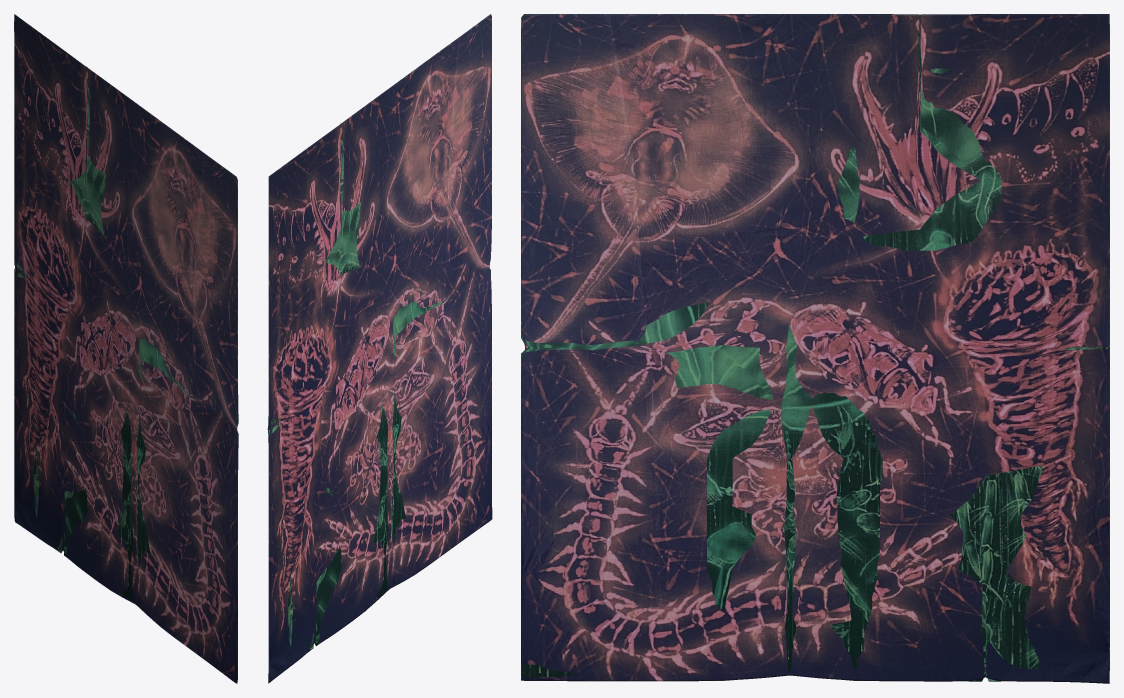
Rendered from bugs.glb.
3 views of the same model, side by side, from view 1: azimuth 30°, elevation 25°; view 2: azimuth 150°, elevation 25°; view 3: azimuth 270°, elevation 25° (orthographic). The views are drawn at different scales.
Visible parts, largest first — view 1: Plane.003, Plane.001; view 2: Plane.003, Plane.001; view 3: Plane.003, Plane.001.
Boxes of the visible parts, <box> form: Plane.003: <box>14,15,238,683</box>; Plane.001: <box>14,14,238,683</box>; Plane.003: <box>267,15,492,682</box>; Plane.001: <box>267,14,491,683</box>; Plane.003: <box>521,14,1109,683</box>; Plane.001: <box>521,14,1109,683</box>.
Bounding box in the file's own units: 5160 × 535072 × 426404.
Materials: 2 (2 with a texture image).
